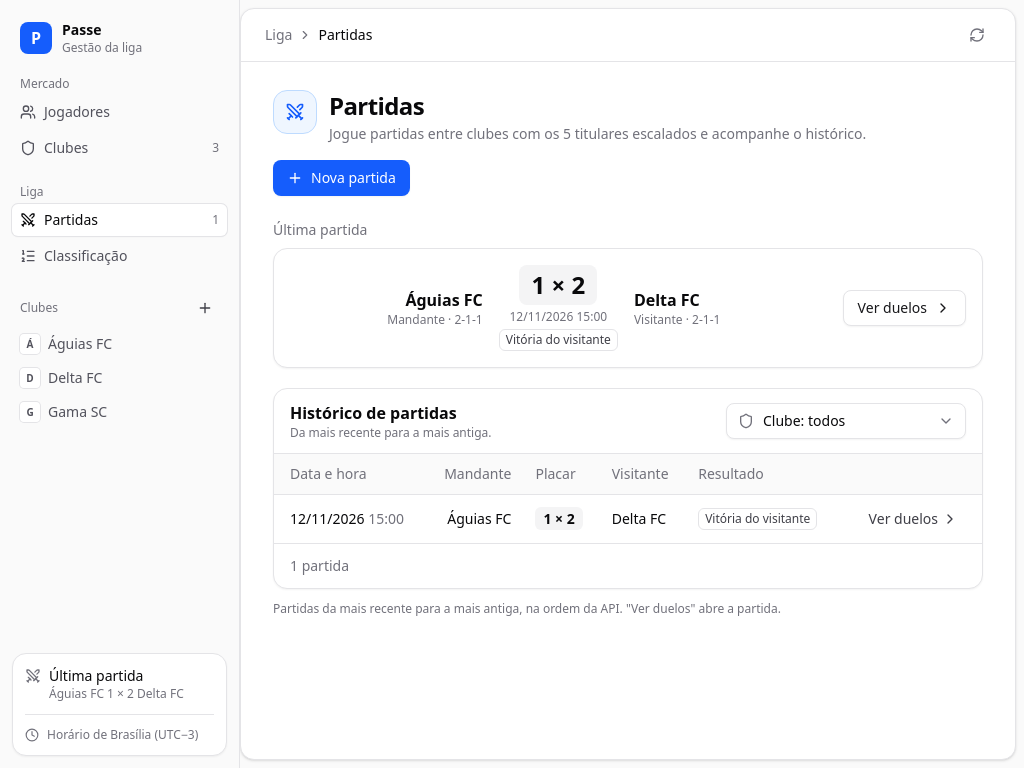
Nova partida › joga a partida e abre os duelos devolvidos pela API
Click the button "Nova partida": point(341, 178) [273,160,410,196]
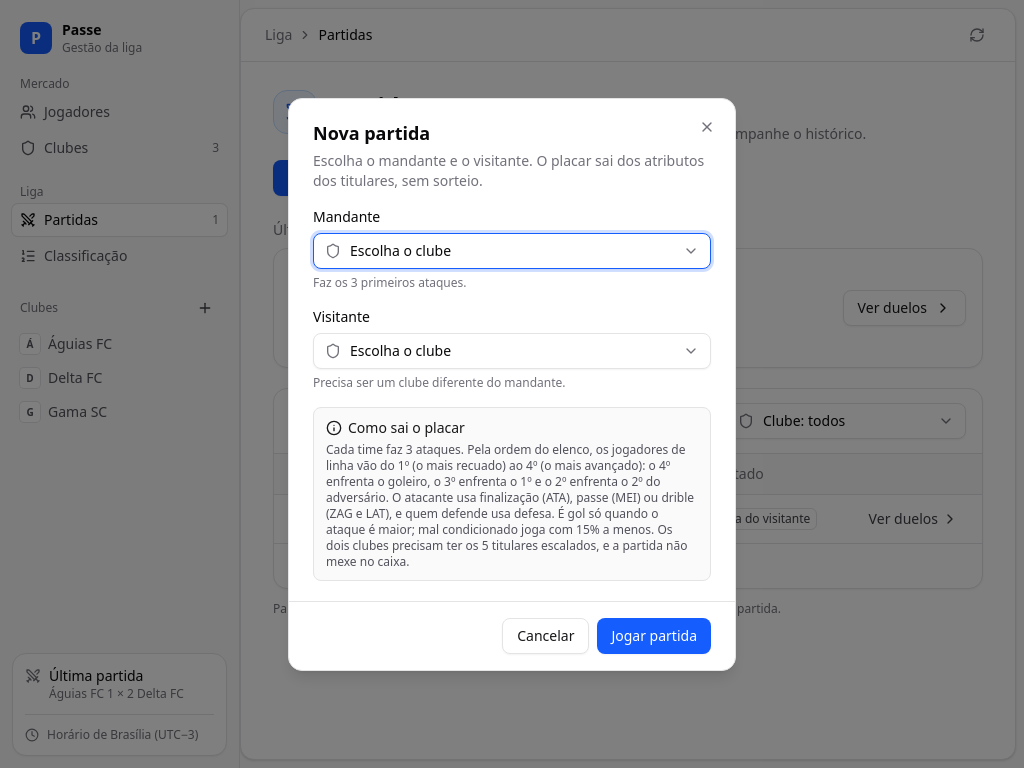
Select "Águias FC (AGU)" in the dropdown labelled "Mandante": point(512, 250) [313,232,711,268]
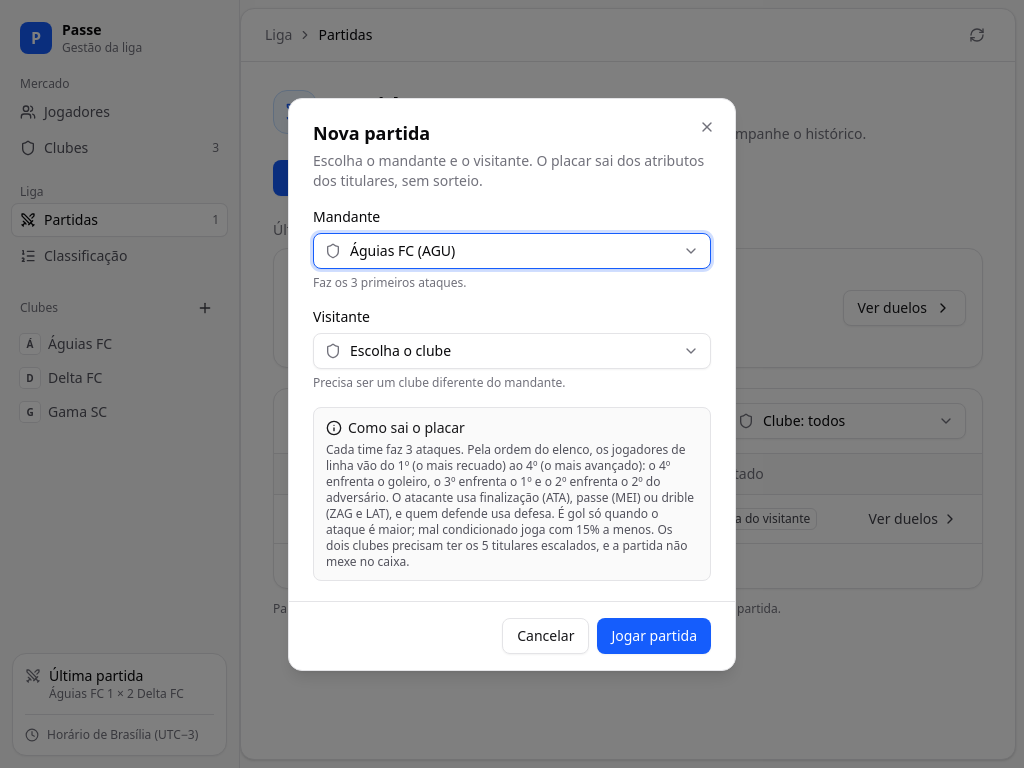
Select "Delta FC (DEL)" in the dropdown labelled "Visitante": point(512, 350) [313,332,711,368]
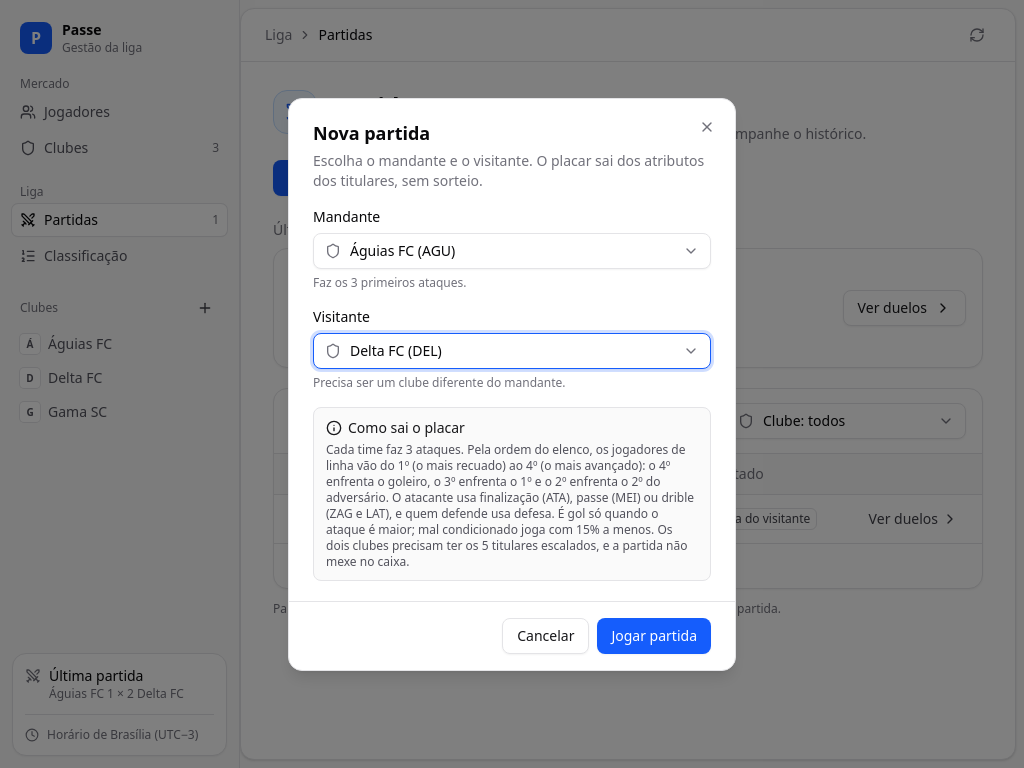
Double-click the button "Jogar partida": point(654, 636) [597,618,711,654]
(page scrolled)
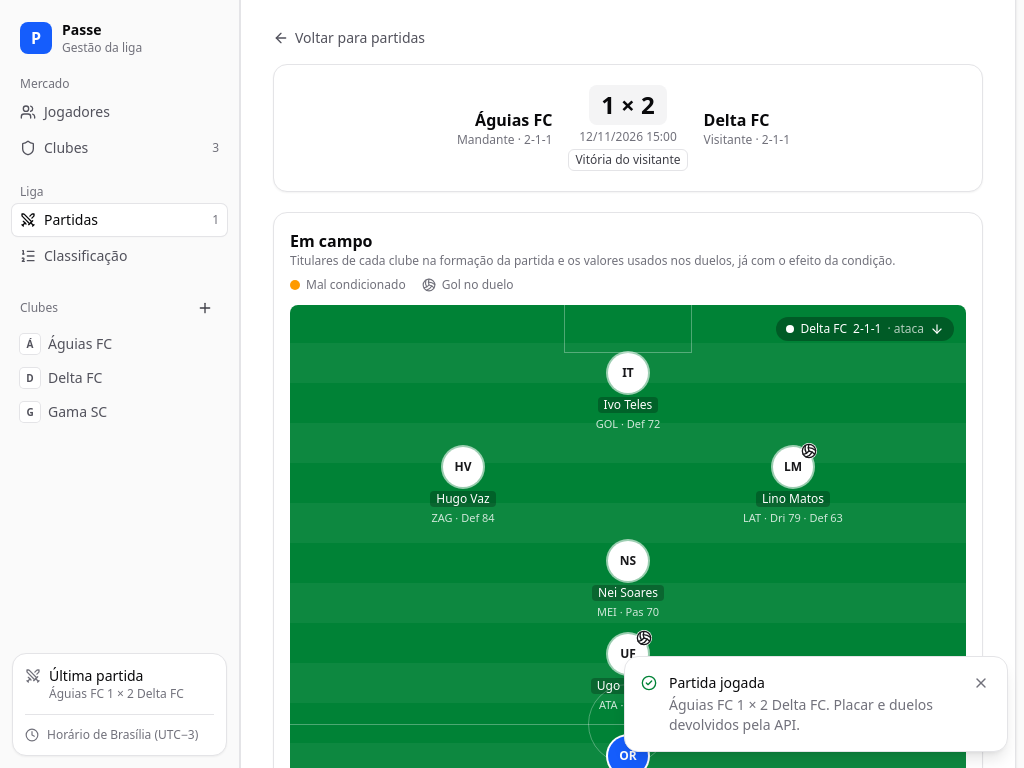
Now the text "Partida jogada" is shown, box [669,673,765,692]
